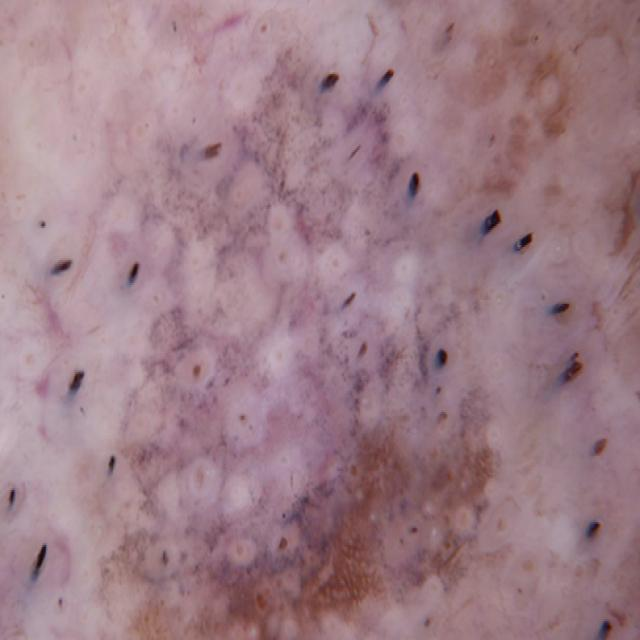Keratosis: (91, 144, 566, 640)
